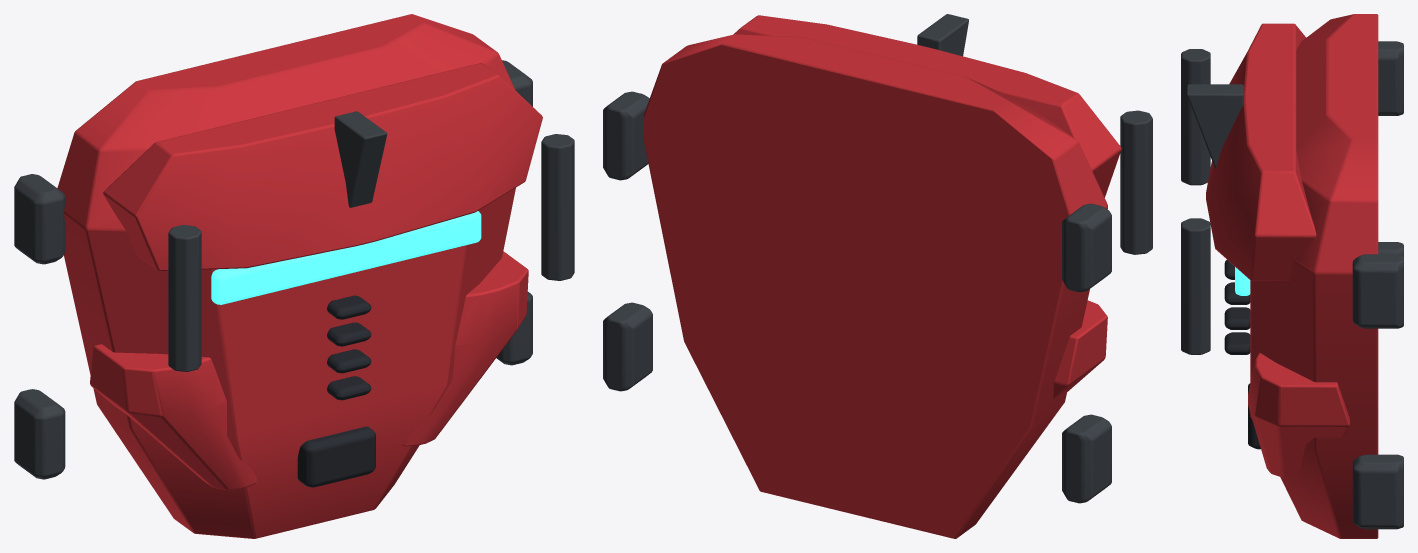
File: HeadFront_Set07_Salvo.fbx
The picture shows the model from 3 angles, left to right: view 1: azimuth 30°, elevation 25°; view 2: azimuth 150°, elevation 25°; view 3: azimuth 270°, elevation 25°; orthographic projection. The views are drawn at different scales.
Parts seen in each view (by area): view 1: HeadFront_Set07_Salvo; view 2: HeadFront_Set07_Salvo; view 3: HeadFront_Set07_Salvo.
Boxes of the visible parts, x1,y1,x2,y2 form: HeadFront_Set07_Salvo: (14, 14, 574, 538); HeadFront_Set07_Salvo: (603, 14, 1152, 538); HeadFront_Set07_Salvo: (1181, 14, 1403, 538).
Bounding box in the file's own units: 0.63 × 0.54 × 0.2614.
